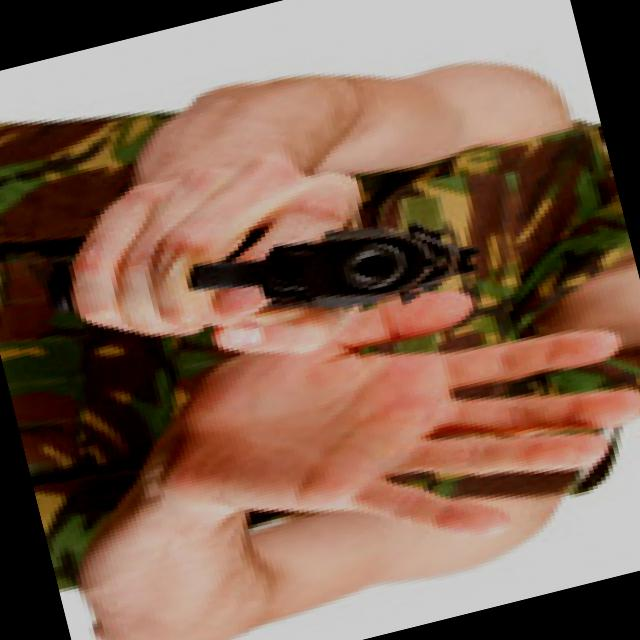handgun: (150, 162, 510, 360)
